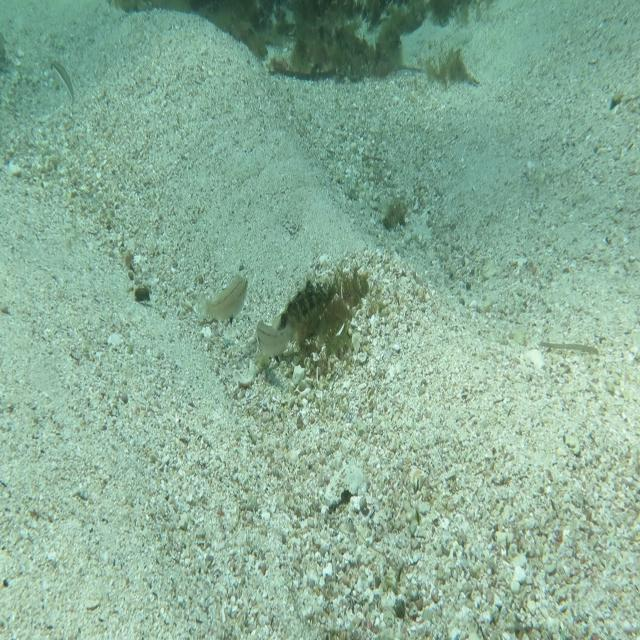Coris_julis_female: (47, 57, 79, 106)
LF: (253, 271, 340, 376)
female: (250, 308, 310, 364)
nest: (280, 264, 378, 379)
other_fish: (192, 269, 252, 338)
